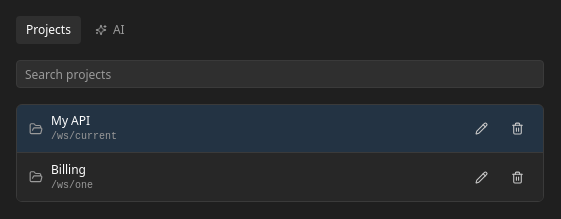
Test: Dashboard › lists projects and filters them from the search field
Expected: the text "Billing" is shown, [51,160,86,178]
Expected: the text "My API" is shown, [51,112,90,129]
Type "bill" into the field labelled "Search projects" at (280, 74), box [16,60,544,88]
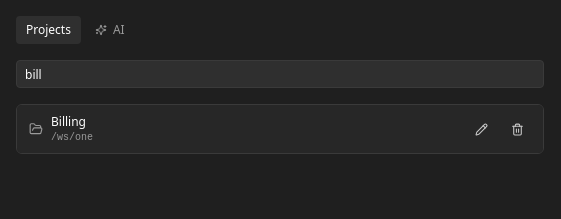
Expected: the text "Billing" is shown, [51,112,86,130]
Expected: the button "My API" is gone
